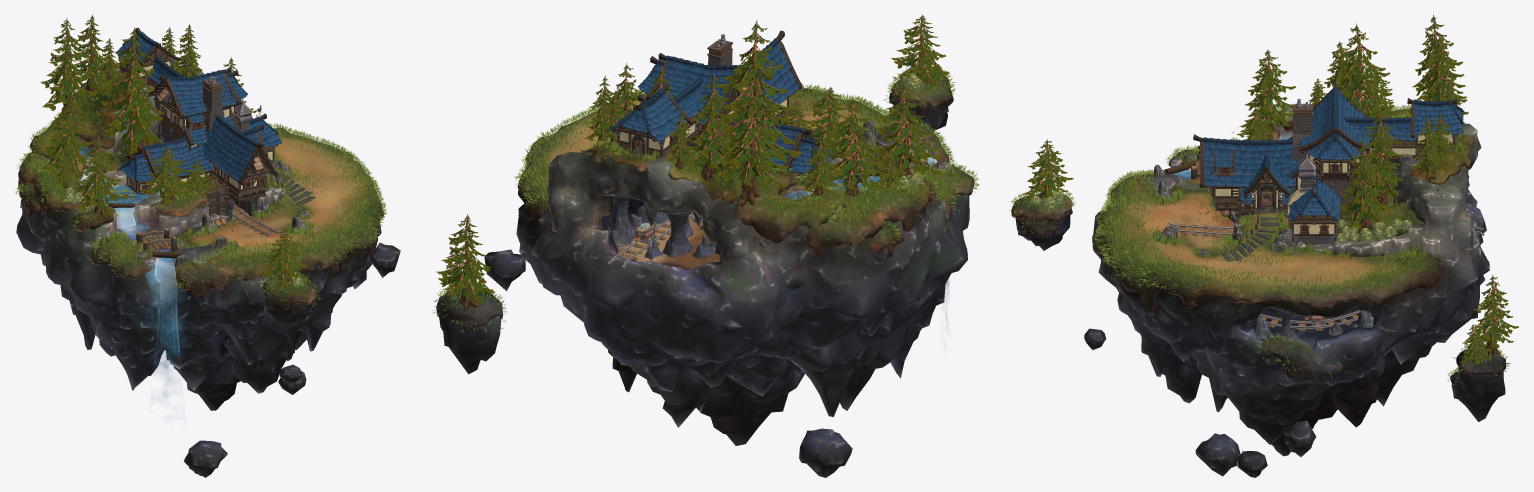
File: stylized_3d_floating_island_and_mine_house.glb
3 renders of one model, left to right at view 1: azimuth 30°, elevation 25°; view 2: azimuth 150°, elevation 25°; view 3: azimuth 270°, elevation 25°, orthographic. The views are drawn at different scales.
Visible parts, largest first — view 1: Final_Bridge1; view 2: Final_Bridge1; view 3: Final_Bridge1.
Boxes of the visible parts, x1,y1,x2,y2 form: Final_Bridge1: (15,14,400,477); Final_Bridge1: (432,14,979,477); Final_Bridge1: (1009,14,1518,477).
Bounding box in the file's own units: 1.37 × 1.51 × 1.56.
32 materials, 30 textured.
